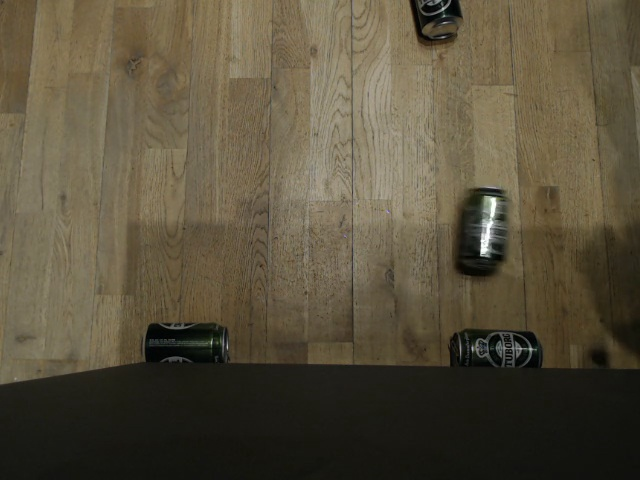beer: (445, 324, 546, 368), (140, 318, 230, 367), (459, 186, 508, 272), (407, 1, 461, 40)
